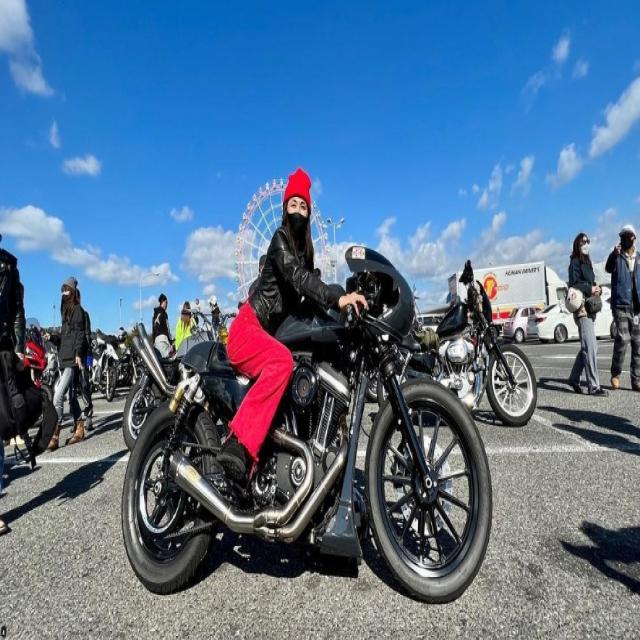illegal_helmet: (282, 163, 314, 240)
